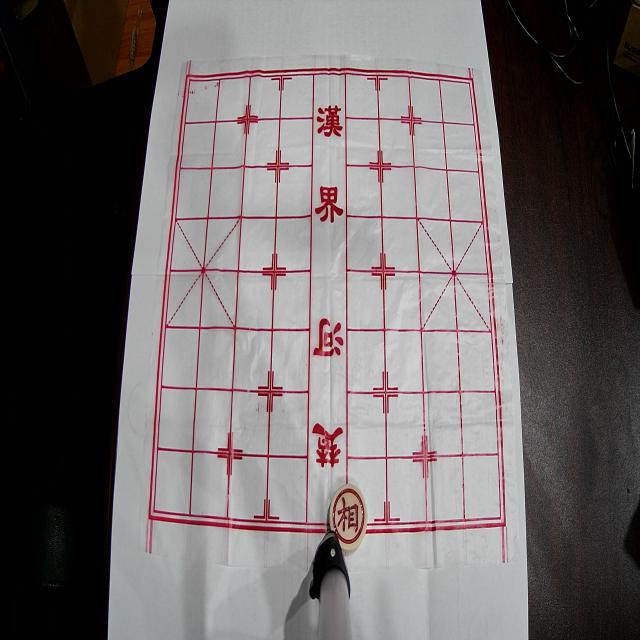red-elephant: (330, 484, 368, 551)
